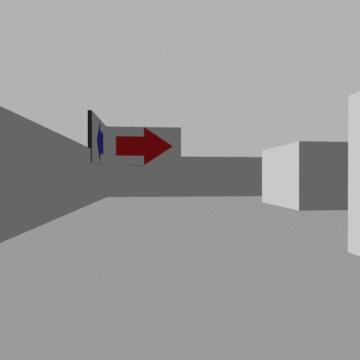blue_left: (97, 124, 103, 161)
red_right: (116, 128, 172, 164)
